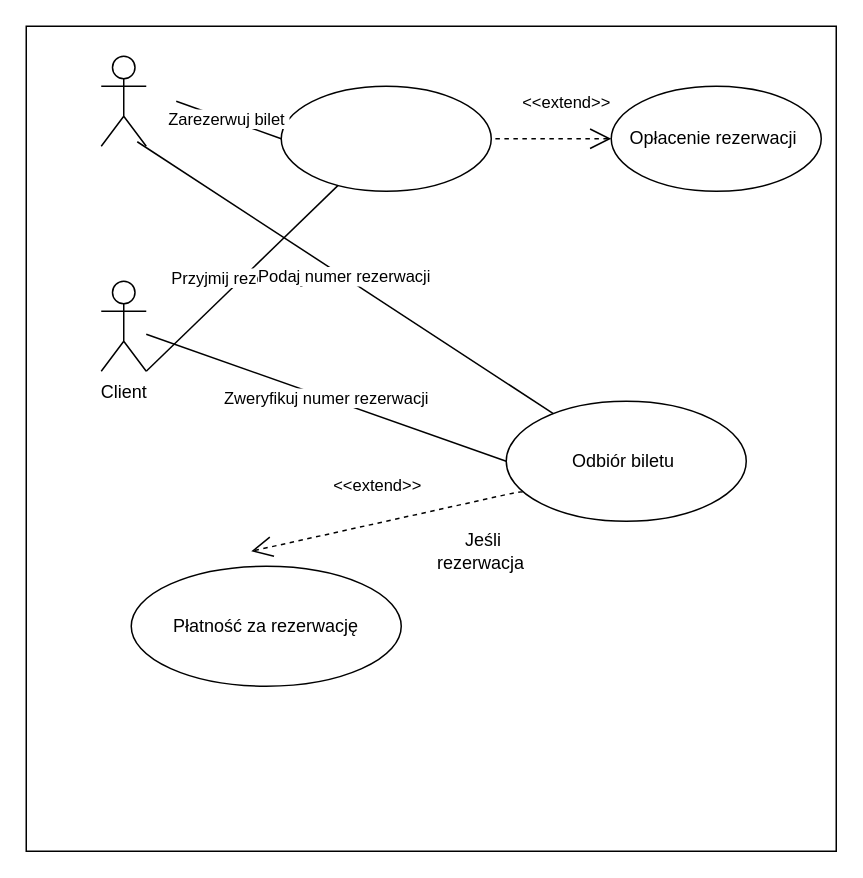
Image size: 863x878. Some labels were removed from this diagram. The box of each missing label's shape, as (x1, y1, x2, y2) in pixels:
Cashier: (100, 55, 146, 146)
Rezerwacja biletu: (280, 85, 491, 191)
